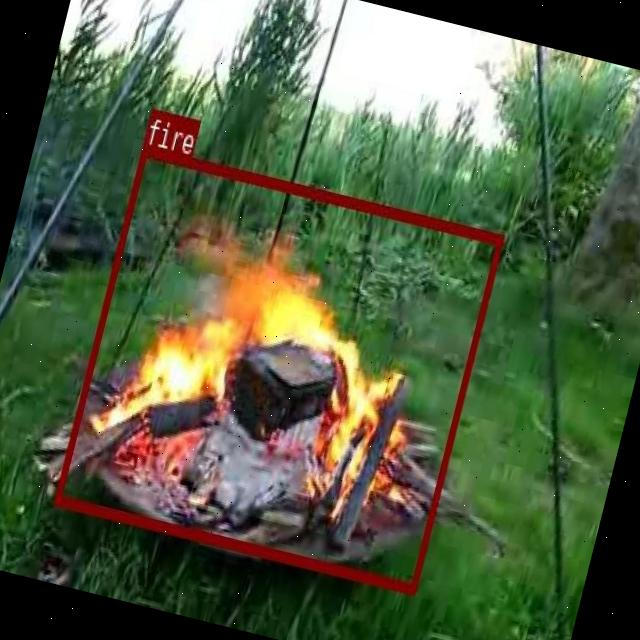fire: (53, 144, 503, 593)
